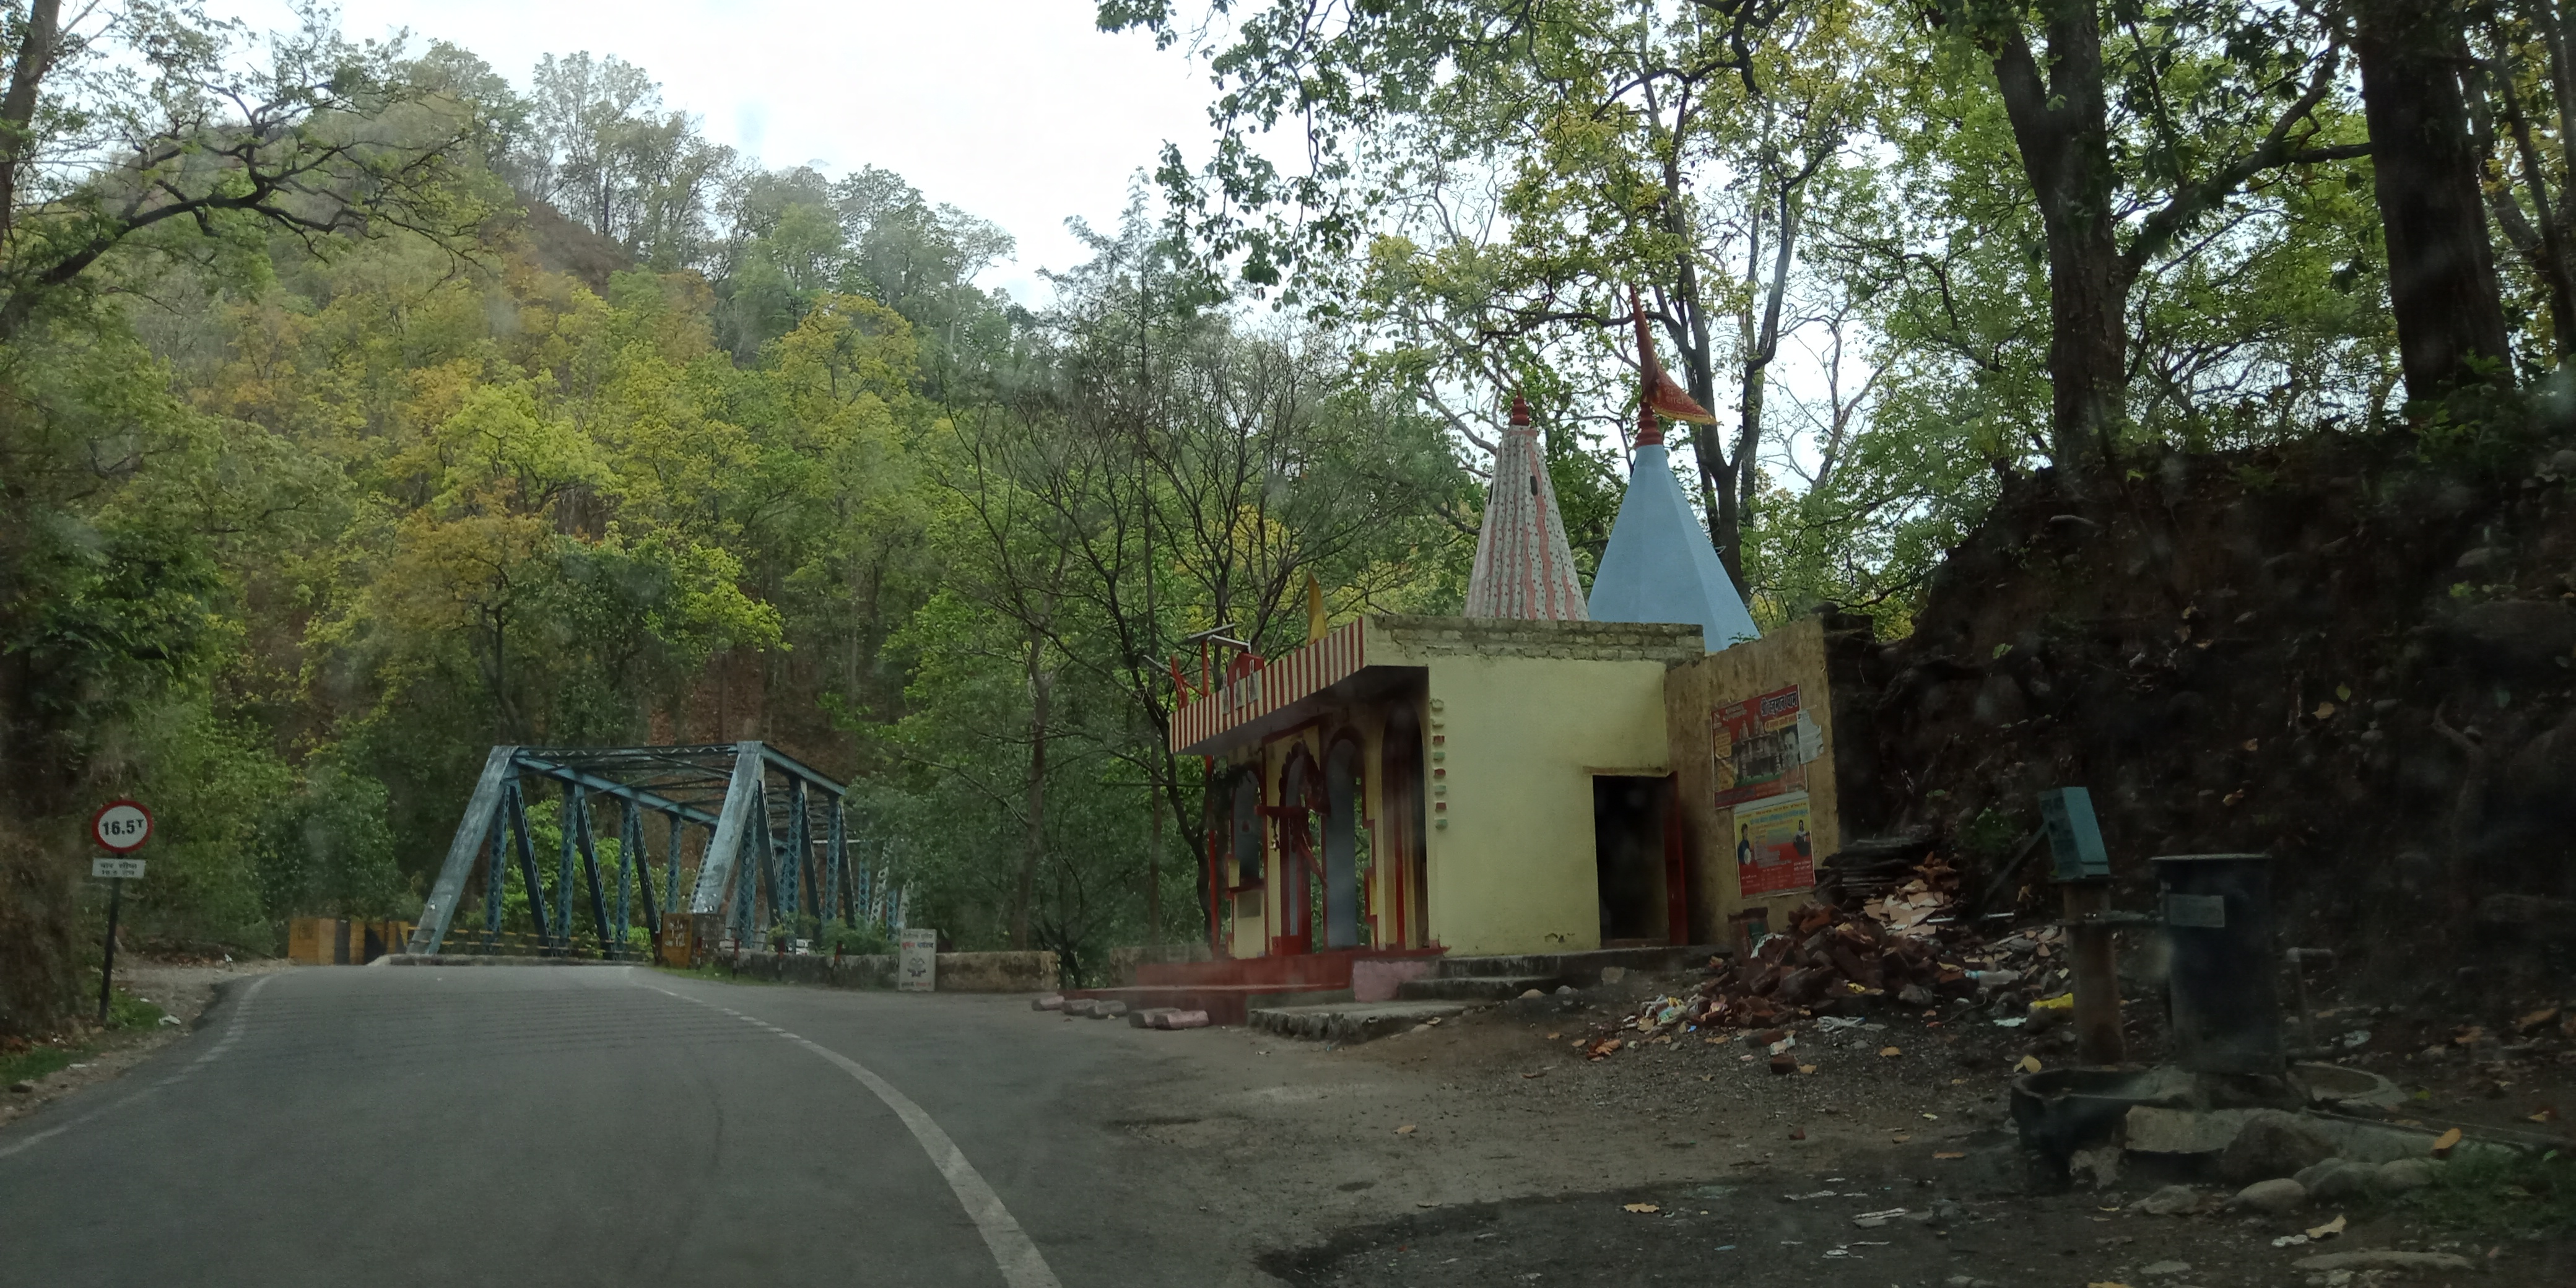traffic_sign: (90, 803, 153, 853)
